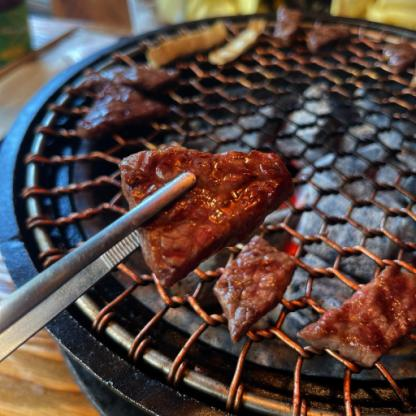Carne: (144, 149, 290, 282), (309, 257, 415, 373), (216, 235, 298, 333)
